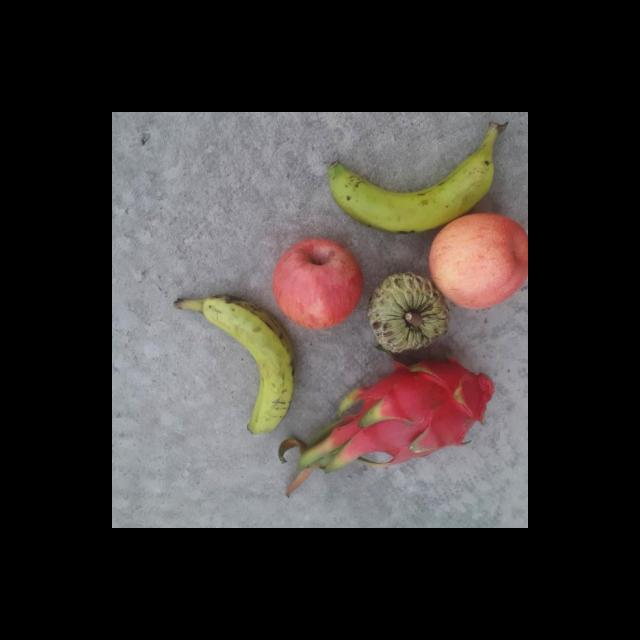Sakya fruit: (366, 271, 452, 354)
apple: (171, 294, 293, 442), (429, 212, 528, 308), (274, 240, 366, 330)
banana: (328, 142, 496, 238)
pitaya: (352, 360, 494, 466)
